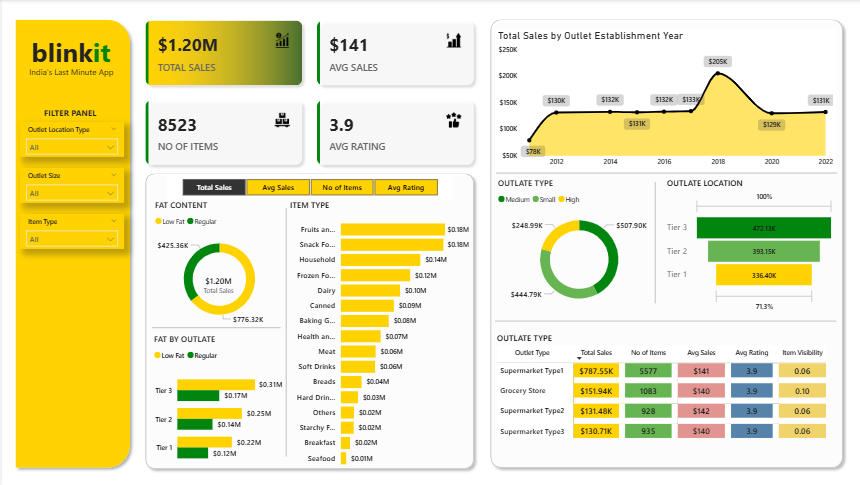

What the dashboard file says about the page in this screenshot:
{"tool":"powerbi","page":{"name":"Page 1","canvas":[1400,800],"ordinal":0},"visuals":[{"type":"shape","box":[12.5,25,205,750],"z":0},{"type":"textbox","box":[22.8,51.9,179.7,78.5],"z":1000},{"type":"textbox","box":[30.4,103.8,164.6,29.1],"z":2000},{"type":"cardVisual","fields":{"Data":["BlinkIT Grocery Data.Total Sales","BlinkIT Grocery Data.Avg Sales","BlinkIT Grocery Data.No of Items","BlinkIT Grocery Data.Avg Rating"]},"box":[217.8,17.8,570,270],"z":3000},{"type":"shape","box":[226,276,554,500],"z":4000},{"type":"donutChart","title":"FAT CONTENT","fields":{"Y":["BlinkIT Grocery Data.Total Sales"],"Category":["BlinkIT Grocery Data.Item Fat Content"]},"box":[244.2,327.1,220,217.1],"z":5000},{"type":"slicer","fields":{"Values":["Metrics.Metrics"]},"box":[268.6,287.1,465.7,40],"z":6000},{"type":"cardVisual","fields":{"Data":["BlinkIT Grocery Data.Total Sales"]},"box":[309.2,434.2,90,56.7],"z":7000},{"type":"clusteredBarChart","title":"FAT BY OUTLATE","fields":{"Y":["BlinkIT Grocery Data.Total Sales"],"Category":["BlinkIT Grocery Data.Outlet Location Type"],"Series":["BlinkIT Grocery Data.Item Fat Content"]},"box":[244,546,220,230],"z":8000},{"type":"shape","box":[244.2,527.5,210,18.3],"z":9000},{"type":"shape","box":[441.1,341.1,46.7,405.6],"z":10000},{"type":"barChart","title":"ITEM TYPE","fields":{"Y":["BlinkIT Grocery Data.Total Sales"],"Category":["BlinkIT Grocery Data.Item Type"]},"box":[465,326.7,301.7,448.3],"z":11000},{"type":"shape","box":[788.3,25,593.3,750],"z":12000},{"type":"lineChart","fields":{"Y":["BlinkIT Grocery Data.Total Sales"],"Category":["BlinkIT Grocery Data.Outlet Establishment Year"]},"box":[805,48.3,556.7,235],"z":13000},{"type":"shape","box":[805.7,267.1,557.1,32.9],"z":14000},{"type":"donutChart","title":"OUTLATE TYPE","fields":{"Y":["BlinkIT Grocery Data.Total Sales"],"Category":["BlinkIT Grocery Data.Outlet Size"]},"box":[805,290,275,225],"z":15000},{"type":"shape","box":[1043.3,299.2,46.7,198.3],"z":16000},{"type":"funnel","title":"OUTLATE LOCATION","fields":{"Y":["Sum(BlinkIT Grocery Data.Sales)"],"Category":["BlinkIT Grocery Data.Outlet Location Type"]},"box":[1080.9,290,282.7,225.5],"z":17000},{"type":"shape","box":[805,509,557,33],"z":18000},{"type":"pivotTable","title":"OUTLATE TYPE","fields":{"Rows":["BlinkIT Grocery Data.Outlet Type"],"Values":["BlinkIT Grocery Data.Total Sales","BlinkIT Grocery Data.No of Items","BlinkIT Grocery Data.Avg Sales","BlinkIT Grocery Data.Avg Rating","Avg(BlinkIT Grocery Data.Item Visibility)"]},"box":[803,544,564,186],"z":19000},{"type":"slicer","fields":{"Values":["BlinkIT Grocery Data.Outlet Location Type"]},"box":[30,201,170,57],"z":20000},{"type":"slicer","fields":{"Values":["BlinkIT Grocery Data.Outlet Size"]},"box":[30,276,170,57],"z":21000},{"type":"slicer","fields":{"Values":["BlinkIT Grocery Data.Item Type"]},"box":[30,351,170,57],"z":22000},{"type":"textbox","box":[63,171,118,38],"z":23000}]}

Visuals, with their boxes in screenshot pixels (x1, y1, x2, y2), scaled from the page's 1400x800 canvas onto the 860x485 screenshot:
shape: 8,15,134,470
textbox: 14,31,124,79
textbox: 19,63,120,81
cardVisual - BlinkIT Grocery Data.Total Sales x BlinkIT Grocery Data.Avg Sales: 134,11,484,174
shape: 139,167,479,470
"FAT CONTENT" donutChart: 150,198,285,330
slicer - Metrics.Metrics: 165,174,451,198
cardVisual - BlinkIT Grocery Data.Total Sales: 190,263,245,298
"FAT BY OUTLATE" clusteredBarChart: 150,331,285,470
shape: 150,320,279,331
shape: 271,207,300,453
"ITEM TYPE" barChart: 286,198,471,470
shape: 484,15,849,470
lineChart - BlinkIT Grocery Data.Total Sales x BlinkIT Grocery Data.Outlet Establishment Year: 495,29,836,172
shape: 495,162,837,182
"OUTLATE TYPE" donutChart: 495,176,663,312
shape: 641,181,670,302
"OUTLATE LOCATION" funnel: 664,176,838,313
shape: 495,309,837,329
"OUTLATE TYPE" pivotTable: 493,330,840,443
slicer - BlinkIT Grocery Data.Outlet Location Type: 18,122,123,156
slicer - BlinkIT Grocery Data.Outlet Size: 18,167,123,202
slicer - BlinkIT Grocery Data.Item Type: 18,213,123,247
textbox: 39,104,111,127
